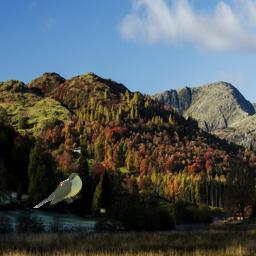Cuckoo: (32, 173, 82, 208)
